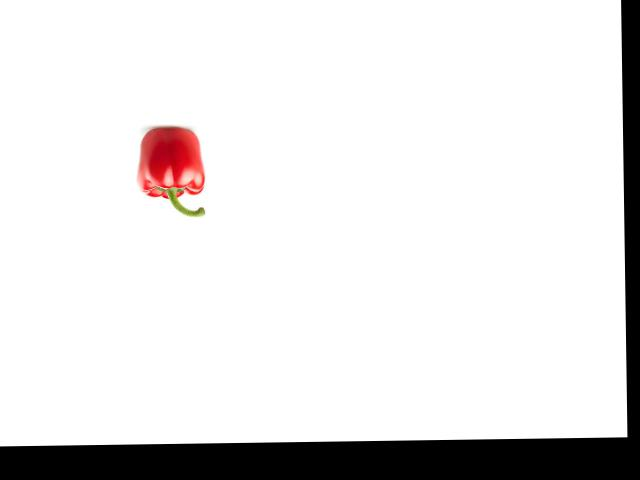bell_pepper: (138, 126, 207, 218)
